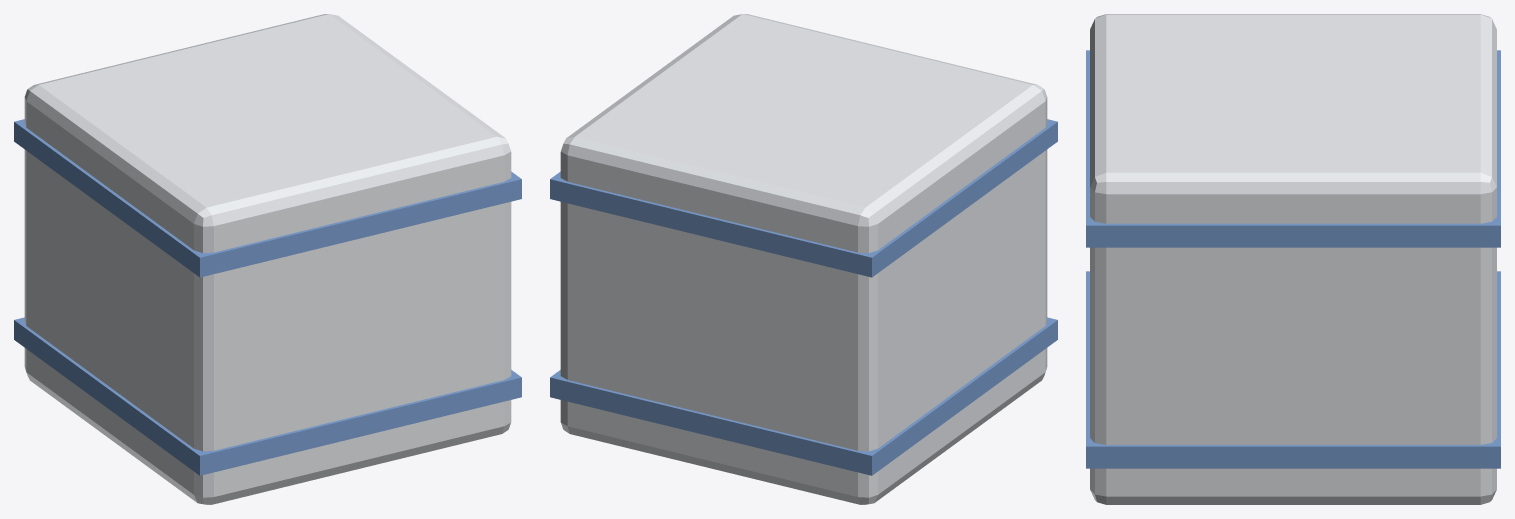
File: crate__crate.fbx
The picture shows the model from 3 angles, left to right: view 1: azimuth 30°, elevation 25°; view 2: azimuth 150°, elevation 25°; view 3: azimuth 270°, elevation 25°; orthographic projection. The views are drawn at different scales.
Visible parts, largest first — view 1: crate__crate; view 2: crate__crate; view 3: crate__crate.
Boxes of the visible parts, bbox=[...] form: crate__crate: bbox=[14, 14, 521, 504]; crate__crate: bbox=[550, 14, 1057, 504]; crate__crate: bbox=[1086, 14, 1500, 504].
Bounding box in the file's own units: 1.02 × 0.9 × 1.02.
